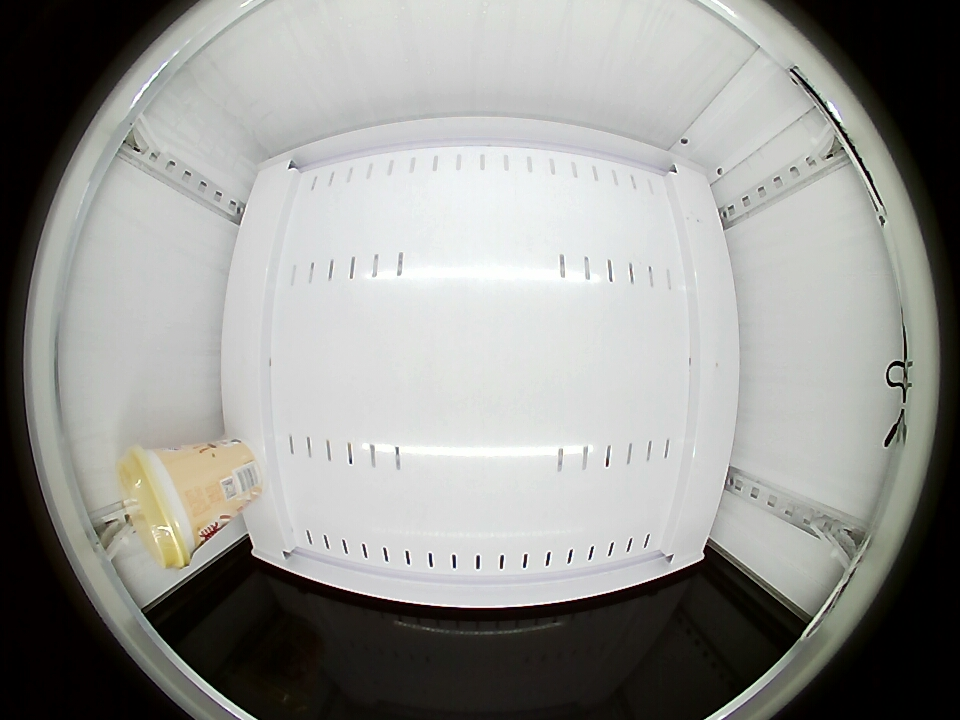youlemei: (118, 444, 205, 569)
